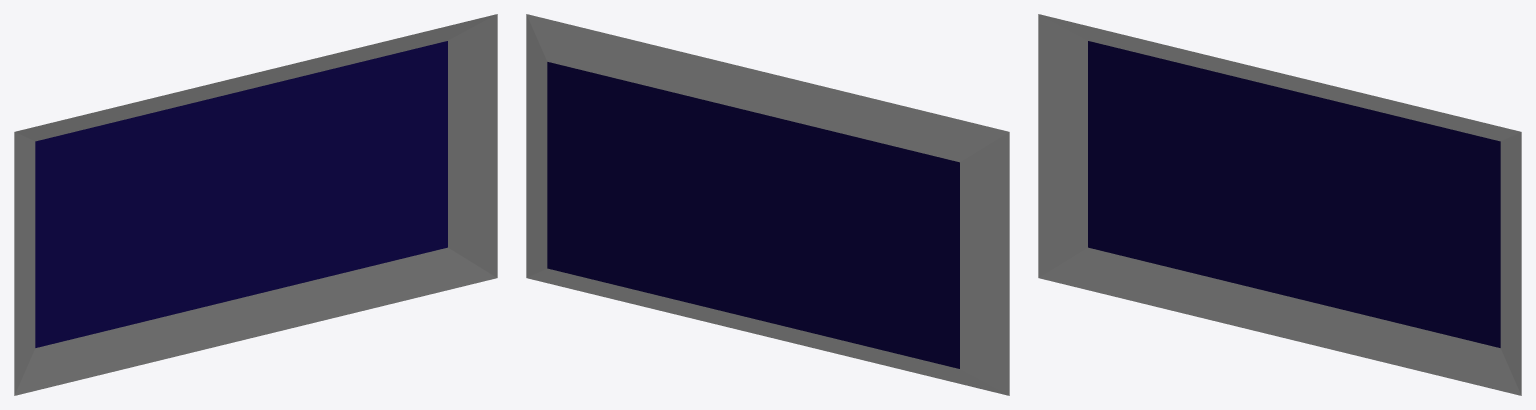
The model's file is page-num-plate.glb.
3 views of the same model, side by side, from view 1: azimuth 30°, elevation 25°; view 2: azimuth 150°, elevation 25°; view 3: azimuth 330°, elevation 25° (orthographic).
Visible parts, largest first — view 1: page-num-plate; view 2: page-num-plate; view 3: page-num-plate.
Boxes of the visible parts, <box> form: page-num-plate: <box>14,14,497,395</box>; page-num-plate: <box>526,14,1009,395</box>; page-num-plate: <box>1038,14,1521,395</box>.
Bounding box in the file's own units: 6.04 × 3.16 × 0.3096.
1 material, 1 textured.
